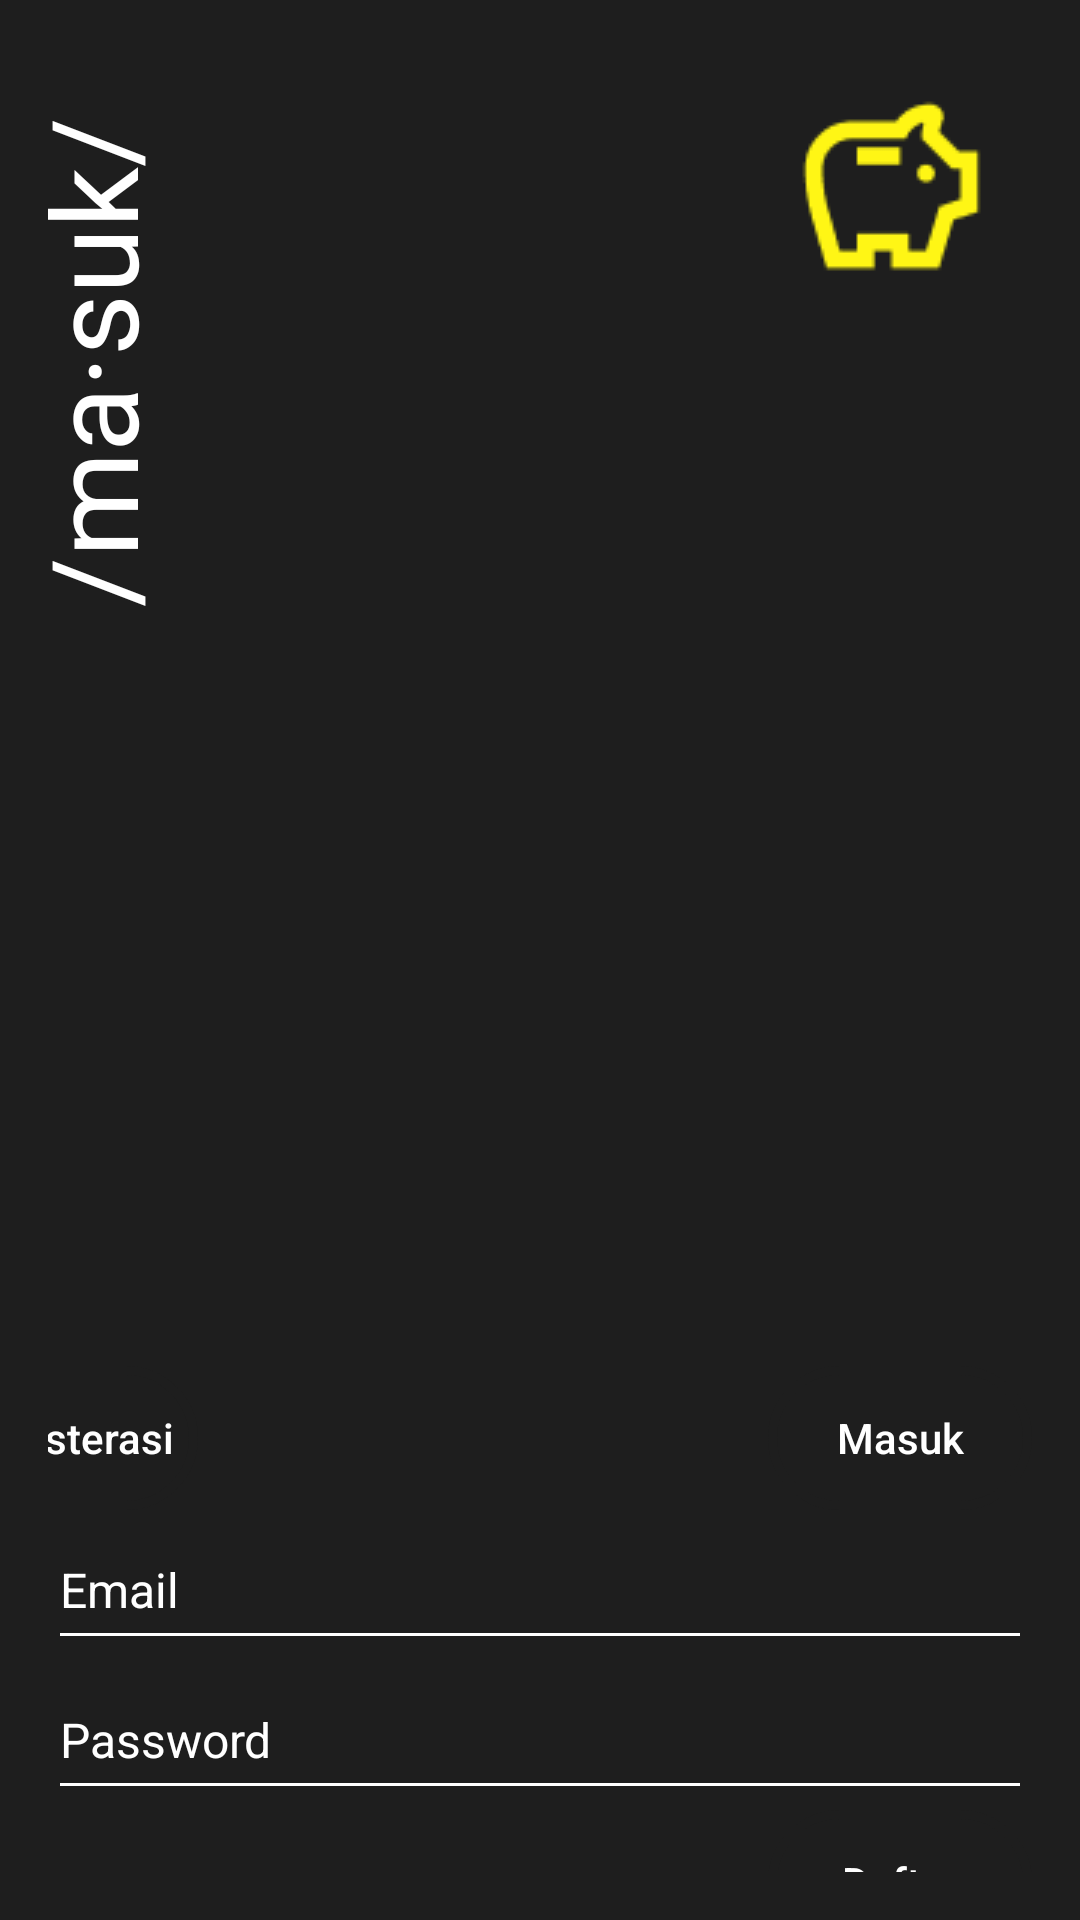

Screen size 1080 × 1920. Icon name, then its center in pixels as point (x, y):
savings: point (891, 186)
